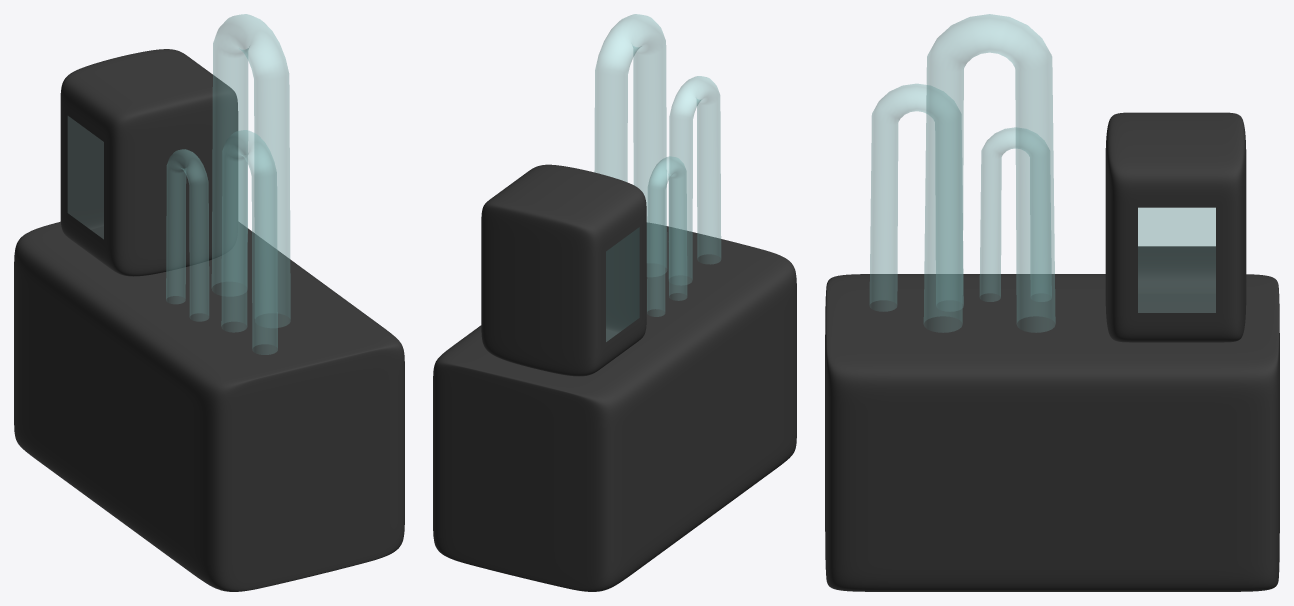
The model's file is Background1.fbx.
3 views of the same model, side by side, from view 1: azimuth 30°, elevation 25°; view 2: azimuth 150°, elevation 25°; view 3: azimuth 270°, elevation 25° (orthographic). The views are drawn at different scales.
Parts seen in each view (by area): view 1: pTorus2; view 2: pTorus2; view 3: pTorus2.
Boxes of the visible parts, x1,y1,x2,y2 form: pTorus2: [14, 14, 404, 591]; pTorus2: [433, 14, 796, 591]; pTorus2: [825, 14, 1279, 591].
Bounding box in the file's own units: 6.36 × 15.22 × 11.65.
